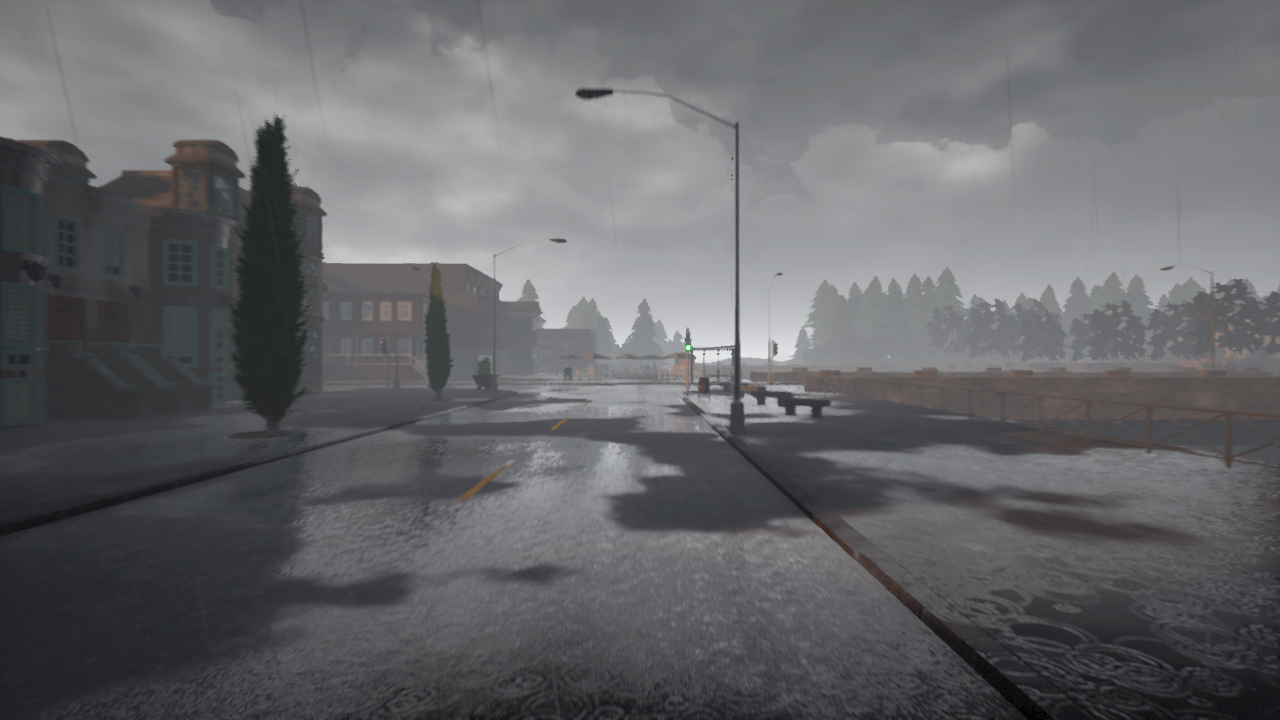green: (684, 332, 692, 351)
